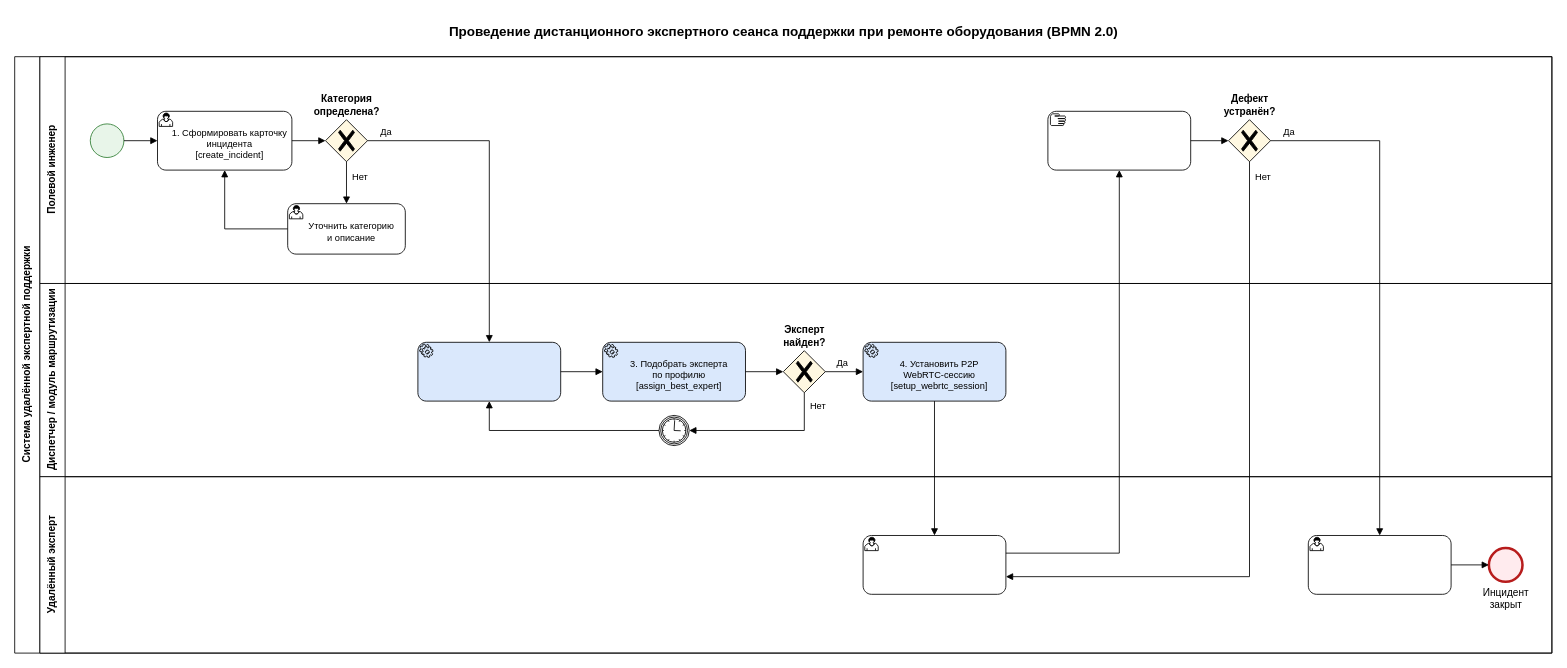
Image size: 1567x668. Some labels were removed from this diagram. The shapes that lost their labels are listed below. From the top down, each one's centre as x and y in pixels, then its label:
the point at 106,140: Обнаружена неисправность
the point at 1119,140: 6. Выполнить ремонт по AR-указателям
the point at 489,371: 2. Приоритизировать очередь инцидентов [prioritize_incidents_queue]
the point at 673,430: Ожидание эксперта
the point at 934,564: 5. Нанести AR-метку на видеокадр [process_ar_annotation]
the point at 1379,564: 7. Оформить протокол заключения [generate_consultation_protocol]
